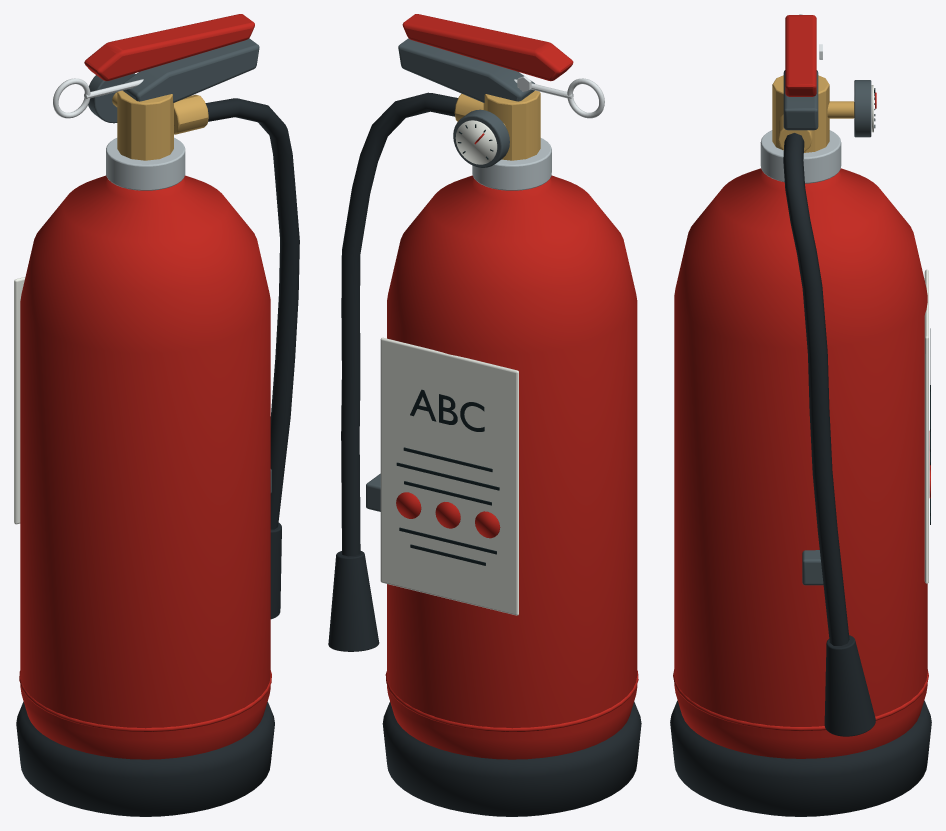
Rendered from extinguisher.glb.
The picture shows the model from 3 angles, left to right: view 1: azimuth 30°, elevation 25°; view 2: azimuth 150°, elevation 25°; view 3: azimuth 270°, elevation 25°; orthographic projection.
Visible parts, largest first — view 1: extinguisher_render_mesh; view 2: extinguisher_render_mesh; view 3: extinguisher_render_mesh.
Part boxes in pixels (x1=…): extinguisher_render_mesh: x1=14, y1=14, x2=299, y2=816; extinguisher_render_mesh: x1=328, y1=14, x2=641, y2=816; extinguisher_render_mesh: x1=670, y1=14, x2=931, y2=816.
Bounding box in the file's own units: 0.2219 × 0.5679 × 0.182.
